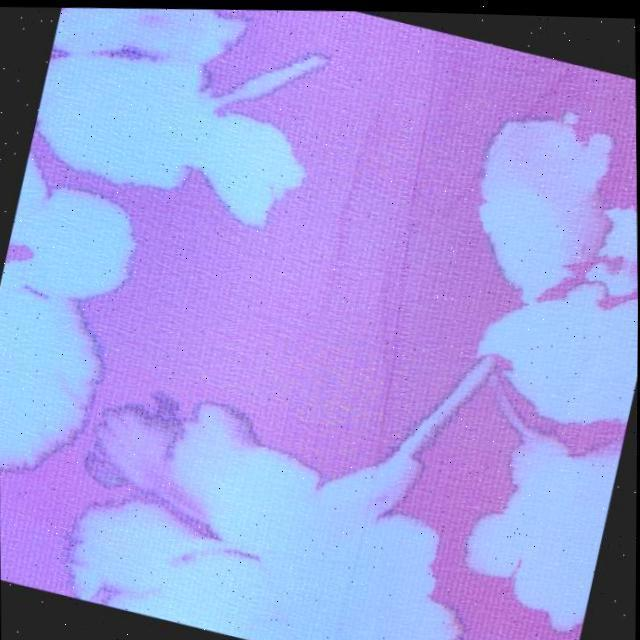pulled_or_thick_thread: (379, 62, 442, 434)
